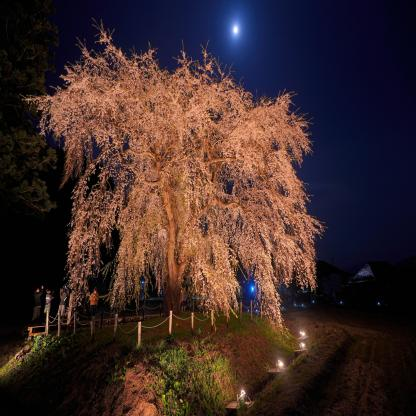ShidareZakura: (19, 14, 328, 341)
